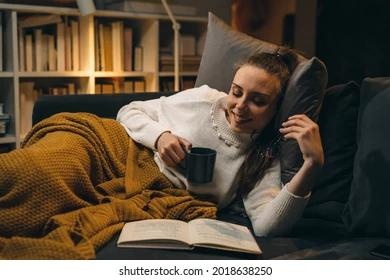blanket: (0, 111, 218, 261)
sweater: (114, 84, 312, 240)
